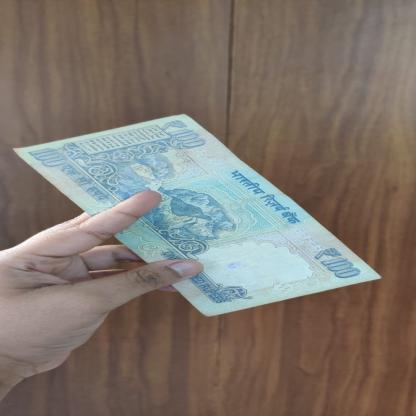Old100Back: (10, 114, 386, 318)
